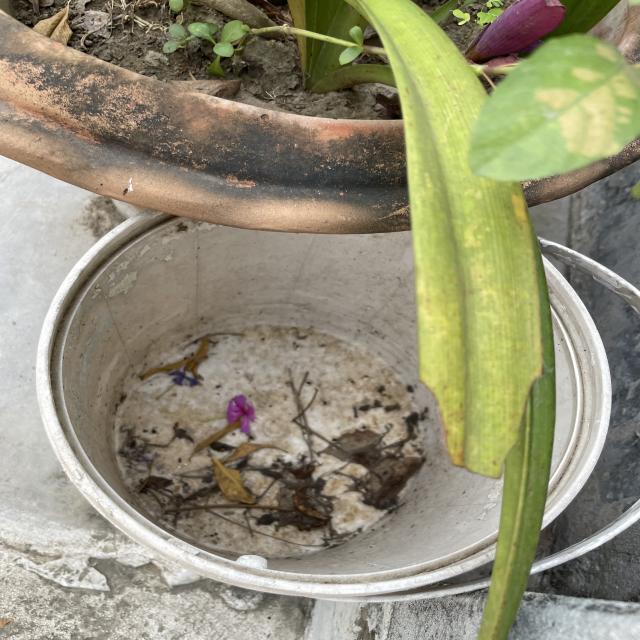Breeding Place: (57, 199, 604, 595)
